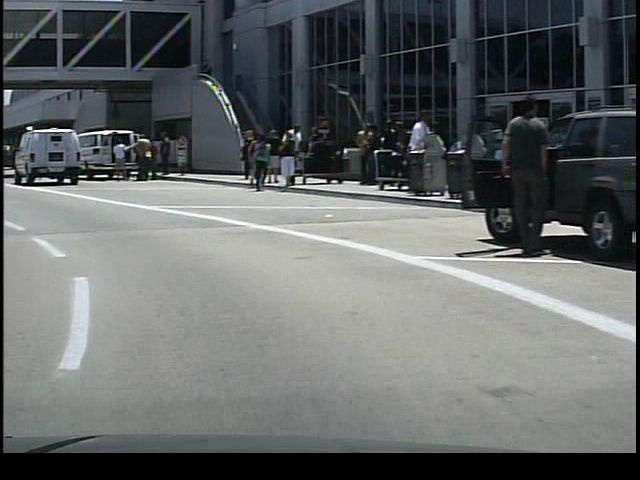person: (482, 83, 554, 263), (396, 109, 431, 200), (277, 123, 303, 186), (272, 137, 294, 188), (128, 132, 149, 184), (153, 131, 175, 178), (109, 137, 127, 186), (233, 126, 248, 182)
